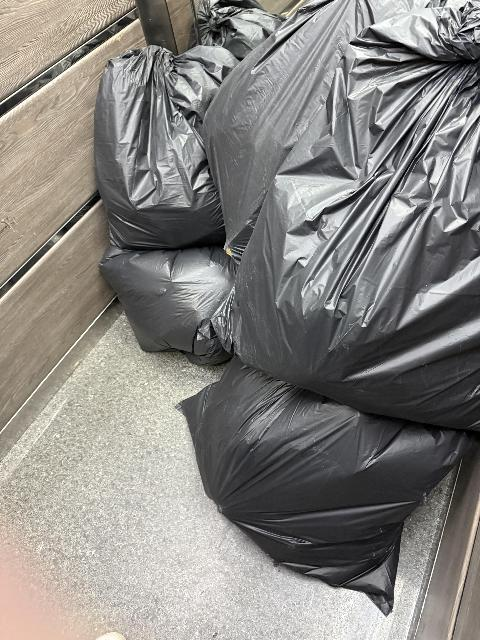Plastik: (229, 7, 476, 382), (167, 392, 480, 606), (110, 56, 238, 242), (95, 241, 246, 356)
